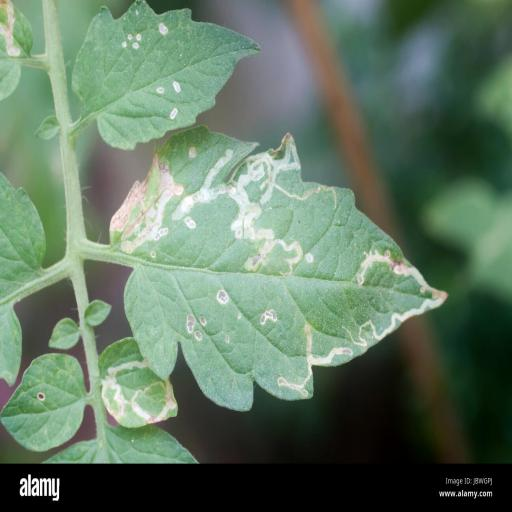disease_tomato: (109, 126, 451, 414), (100, 337, 180, 431)
